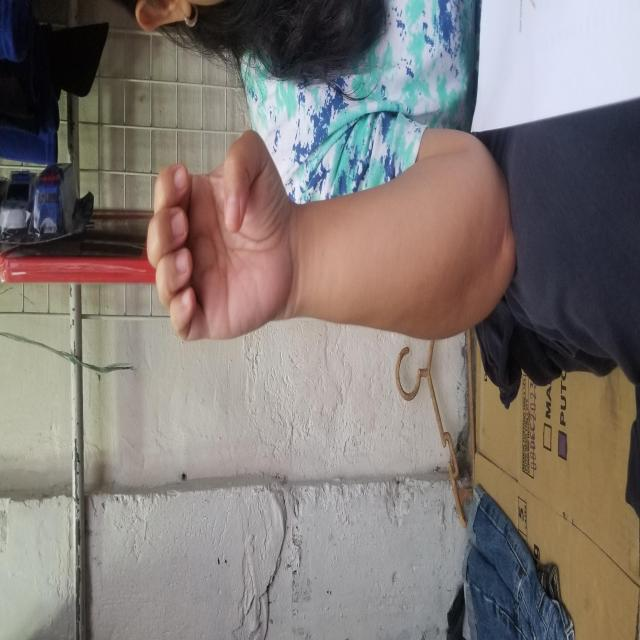E: (299, 145, 512, 289)
